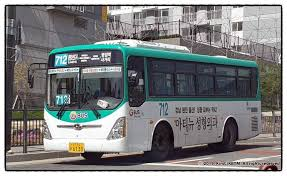bnum: (55, 54, 68, 66)
